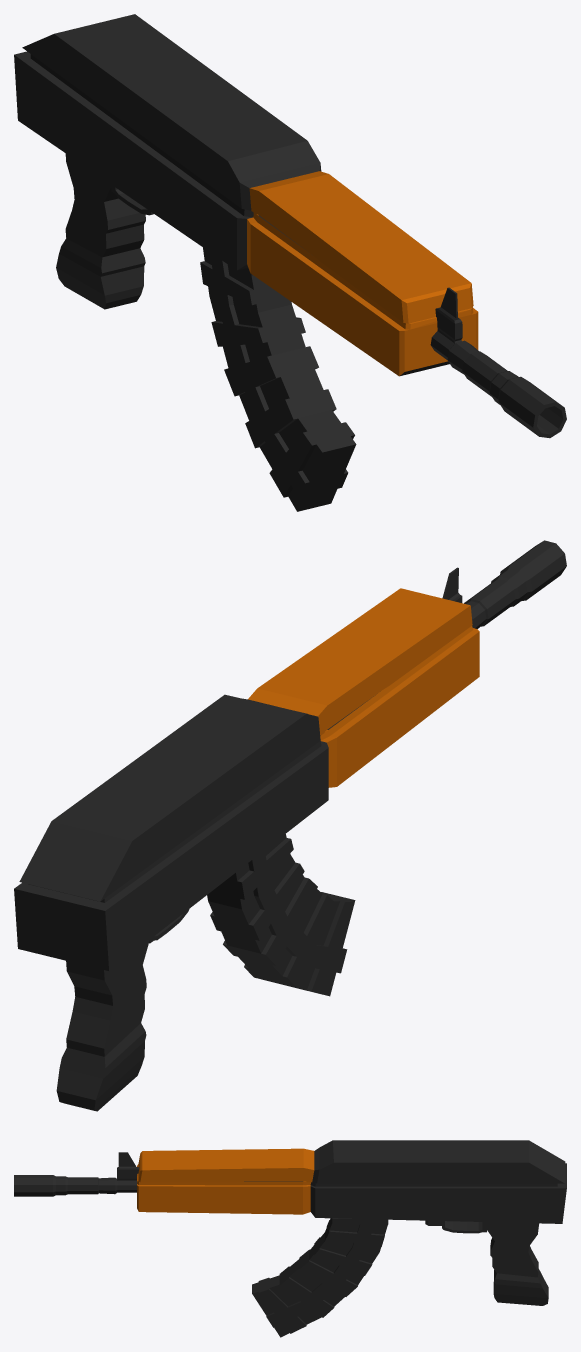
3 renders of one model, top to bottom at view 1: azimuth 30°, elevation 25°; view 2: azimuth 150°, elevation 25°; view 3: azimuth 270°, elevation 25°, orthographic. The views are drawn at different scales.
Parts seen in each view (by area): view 1: ak47; view 2: ak47; view 3: ak47.
Boxes of the visible parts, x1,y1,x2,y2 form: ak47: [14, 14, 566, 511]; ak47: [14, 540, 566, 1111]; ak47: [14, 1140, 566, 1337].
Bounding box in the file's own units: 0.097 × 0.3263 × 0.9.
3 materials, 3 textured.
